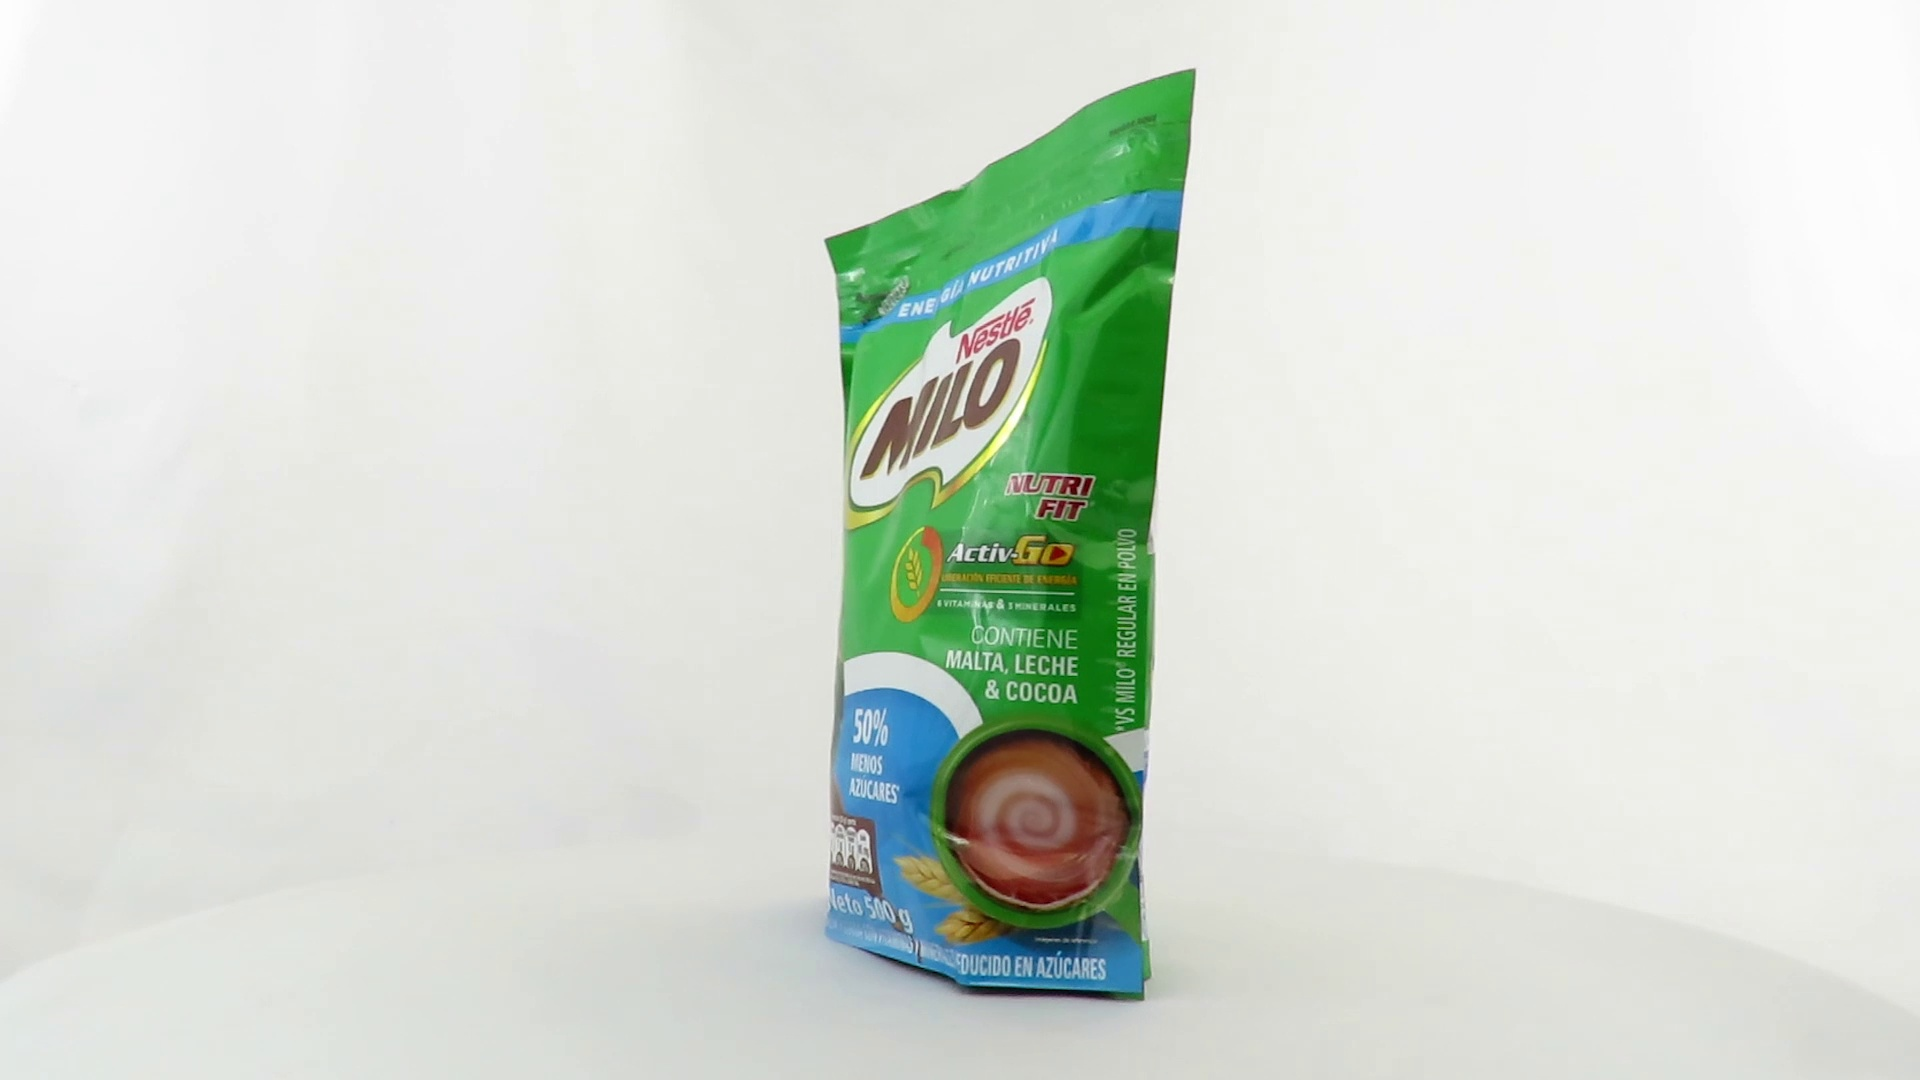COL0170205DYP50000: (819, 63, 1203, 1009)
